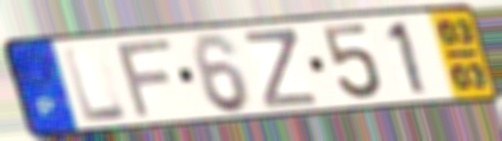1: (383, 19, 430, 98)
5: (319, 21, 385, 102)
6: (190, 30, 252, 116)
F: (113, 35, 177, 122)
L: (60, 44, 132, 125)
Z: (240, 27, 321, 111)
